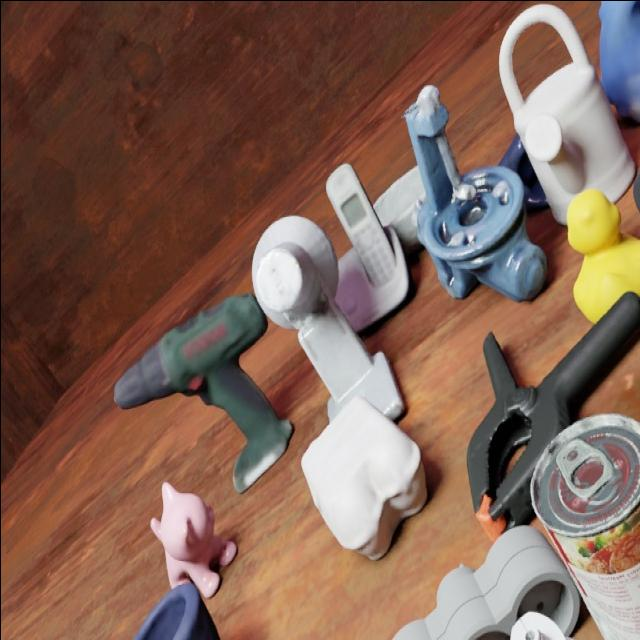Other Objects: (467, 292, 640, 523), (253, 216, 402, 417), (531, 413, 640, 639), (392, 524, 580, 639), (301, 396, 426, 559), (326, 163, 407, 297), (150, 481, 236, 597), (567, 188, 640, 321), (335, 248, 408, 332), (134, 581, 219, 639)
